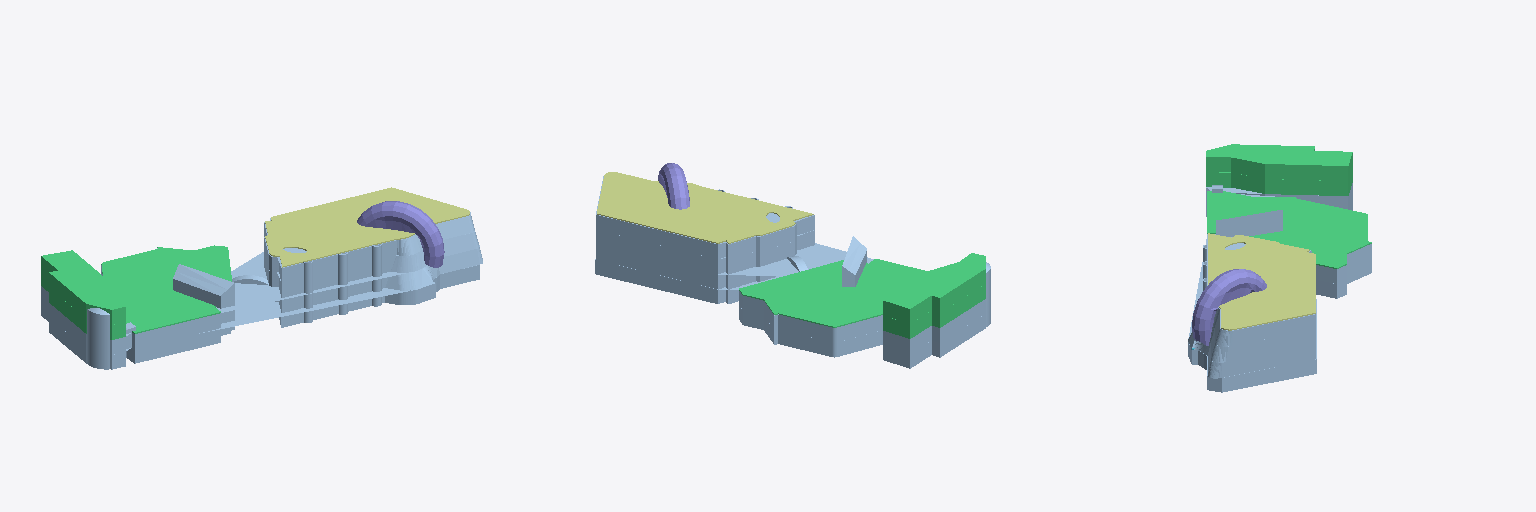
The model's file is allbuilding.obj.
The picture shows the model from 3 angles: view 1: azimuth 30°, elevation 25°; view 2: azimuth 150°, elevation 25°; view 3: azimuth 270°, elevation 25°; orthographic projection.
Visible parts, largest first — view 1: Shape427, Shape012, Shape428, Shape439, wallg2_f4, Shape437, Torus003, walls, wall_g2, Box189, Tube007, Shape438; view 2: Shape012, Shape427, Shape428, Shape439, walls, wallg2_f4, Shape437, wall_g2, Shape438, Torus003, Box189; view 3: Shape012, Shape428, Shape439, Shape427, Torus003, Shape438, wall_g2, wallg2_f4, Shape437, Box189, walls.
Part boxes in pixels (x1,y1,x2,y2): Shape427: (41,245,482,354); Shape012: (265,187,469,267); Shape428: (41,245,231,339); Shape439: (41,250,125,324); wallg2_f4: (264,212,474,282); Shape437: (264,231,478,297); Torus003: (357,201,444,267); walls: (41,301,234,369); wall_g2: (279,265,479,327); Box189: (173,264,234,319); Tube007: (87,309,109,369); Shape438: (41,271,125,339); Shape012: (597,172,813,243); Shape427: (596,243,985,353); Shape428: (739,259,985,338); Shape439: (883,253,985,323); walls: (739,306,985,368); wallg2_f4: (596,176,814,259); Shape437: (596,230,814,274); wall_g2: (595,259,771,303); Shape438: (883,284,985,338); Torus003: (658,163,689,209); Box189: (842,236,866,286); Shape012: (1208,233,1315,330); Shape428: (1206,185,1371,268); Shape439: (1206,144,1352,180); Shape427: (1188,183,1371,378); Torus003: (1192,269,1266,345); Shape438: (1206,168,1352,195); wall_g2: (1188,299,1316,392); wallg2_f4: (1207,234,1315,346); Shape437: (1210,323,1315,362); Box189: (1216,210,1282,236); walls: (1206,198,1371,298).
Size of the model in its own units: 13.82 by 2.9 by 5.69.